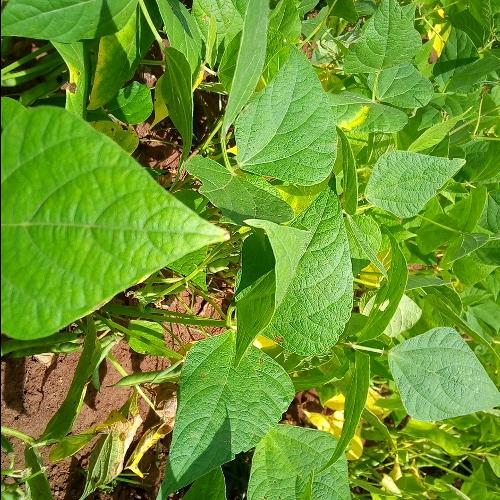sehat: (6, 168, 134, 283), (276, 242, 336, 339), (189, 388, 248, 444), (275, 79, 316, 158), (268, 443, 328, 496), (408, 349, 462, 400), (381, 164, 435, 200), (371, 21, 406, 52), (388, 69, 416, 100)
